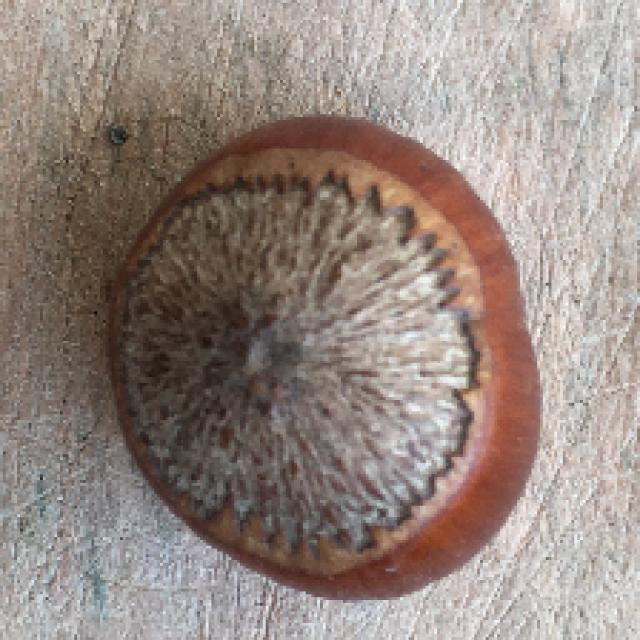qualityHazelnut: (101, 113, 542, 608)
